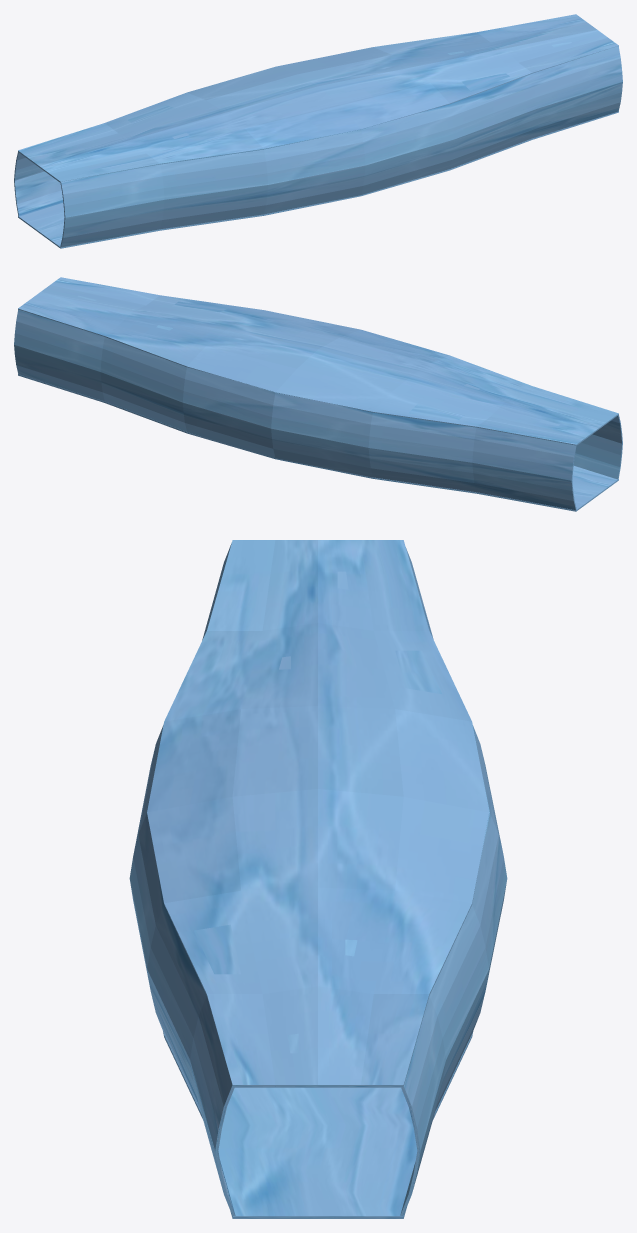
The model's file is Boss_Room.fbx.
3 views of the same model, one above another, from view 1: azimuth 30°, elevation 25°; view 2: azimuth 150°, elevation 25°; view 3: azimuth 270°, elevation 25° (orthographic). The views are drawn at different scales.
Parts seen in each view (by area): view 1: Boss room wall Left, Boss room roof, Boss room floor, Boss room wall Right; view 2: Boss room wall Right, Boss room roof, Boss room floor, Boss room wall Left; view 3: Boss room roof, Boss room floor, Boss room wall Right, Boss room wall Left.
Boxes of the visible parts, left/top/right/bottom form: Boss room wall Left: left=60, top=46, right=622, bottom=247; Boss room roof: left=18, top=14, right=618, bottom=182; Boss room floor: left=18, top=111, right=618, bottom=248; Boss room wall Right: left=14, top=152, right=63, bottom=216; Boss room wall Right: left=14, top=309, right=576, bottom=510; Boss room roof: left=18, top=277, right=618, bottom=445; Boss room floor: left=18, top=374, right=618, bottom=511; Boss room wall Left: left=573, top=415, right=622, bottom=479; Boss room roof: left=147, top=540, right=489, bottom=1087; Boss room floor: left=163, top=1031, right=473, bottom=1218; Boss room wall Right: left=400, top=547, right=507, bottom=1215; Boss room wall Left: left=129, top=543, right=235, bottom=1215.
Bounding box in the file's own units: 7437 × 1003 × 2178.
Materials: 1 (1 with a texture image).
